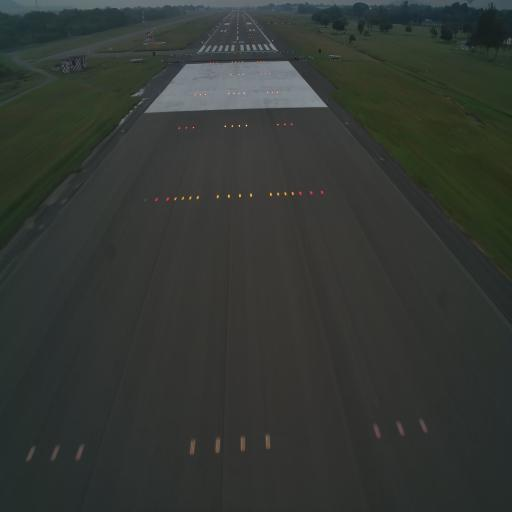off: (379, 154, 385, 165), (143, 195, 148, 205)
on: (22, 440, 40, 468), (51, 437, 63, 466), (210, 439, 226, 460), (263, 426, 274, 456), (237, 433, 250, 458), (371, 419, 383, 445), (417, 416, 431, 438), (75, 440, 86, 467), (396, 415, 406, 441), (186, 436, 196, 459), (226, 189, 232, 202), (290, 188, 296, 199), (173, 193, 179, 203), (216, 191, 221, 203), (248, 190, 254, 200), (268, 190, 274, 200), (276, 189, 282, 199), (298, 189, 304, 199), (154, 194, 160, 203), (309, 188, 315, 197), (237, 191, 242, 200), (283, 190, 288, 199), (319, 188, 324, 197), (188, 195, 194, 202), (166, 194, 170, 204), (196, 192, 200, 202), (181, 196, 186, 202)
